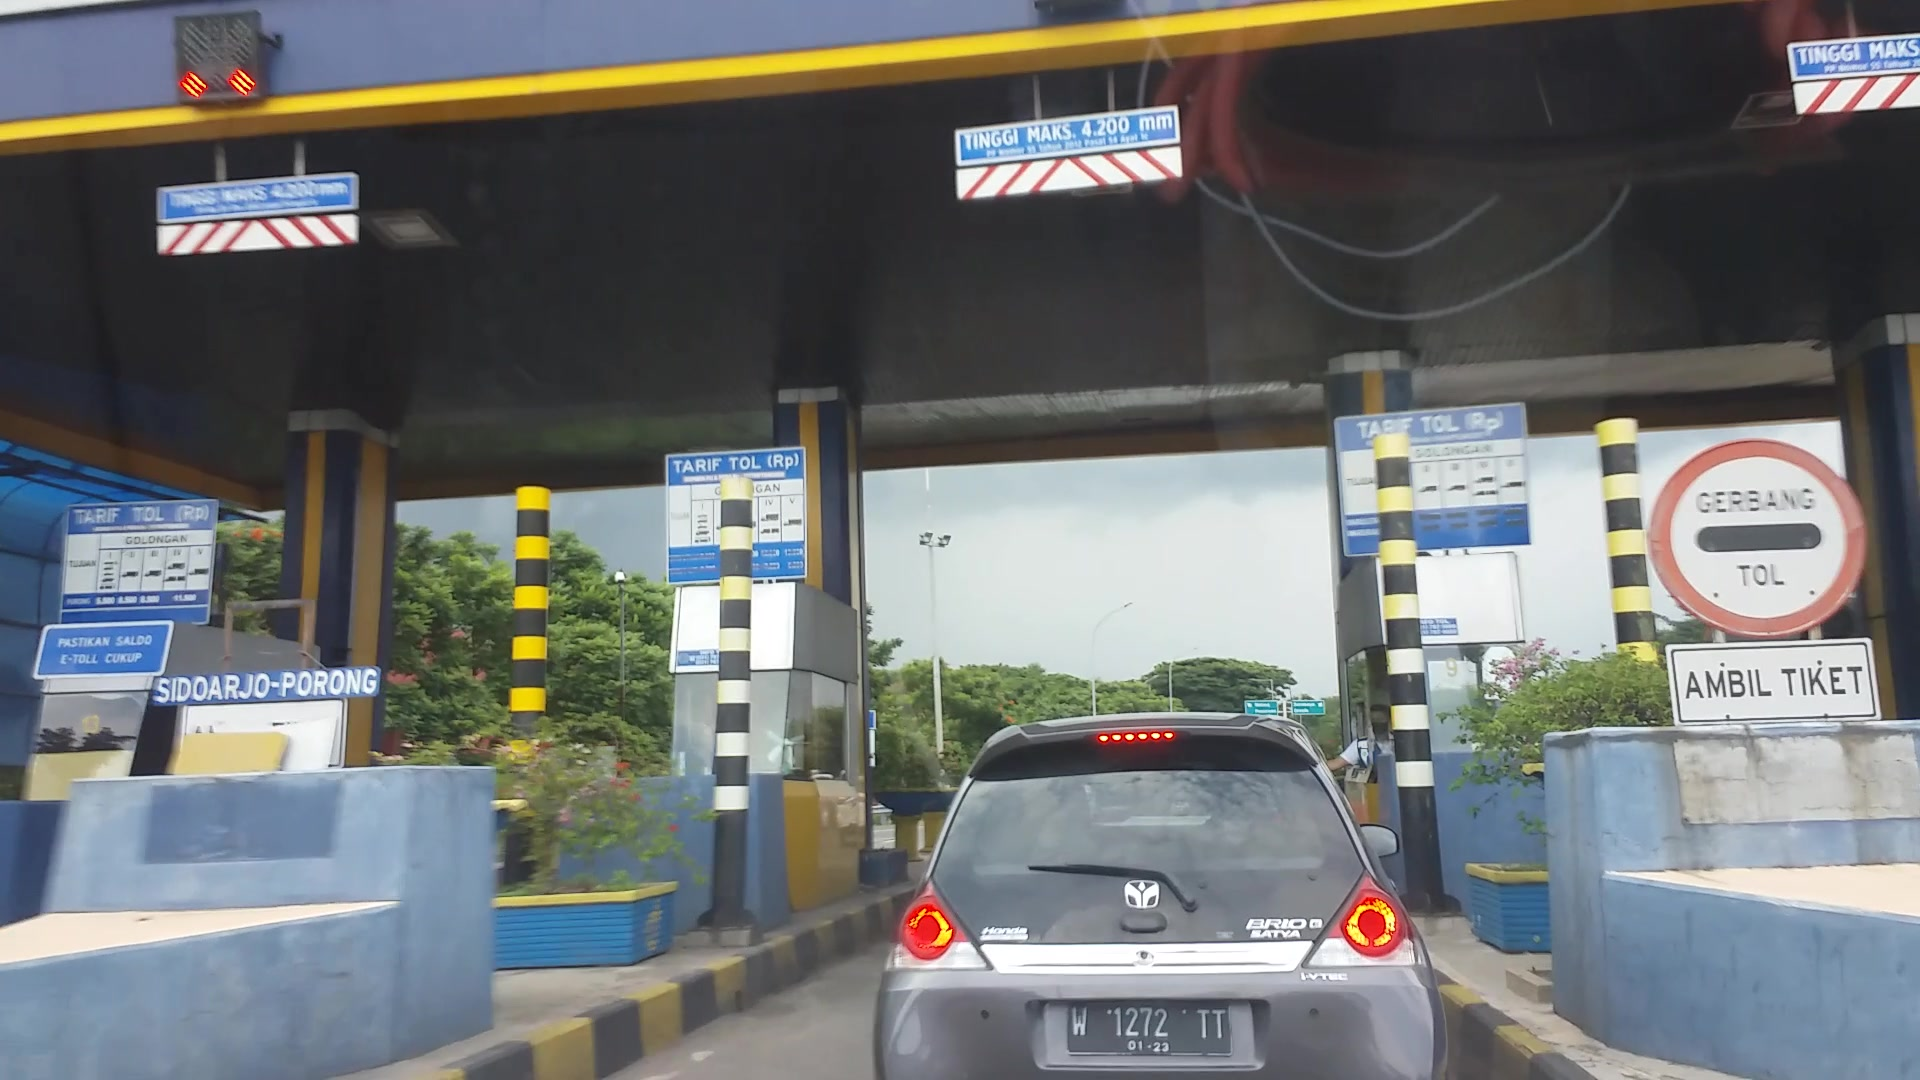plate_positive: (1067, 1000, 1232, 1055)
